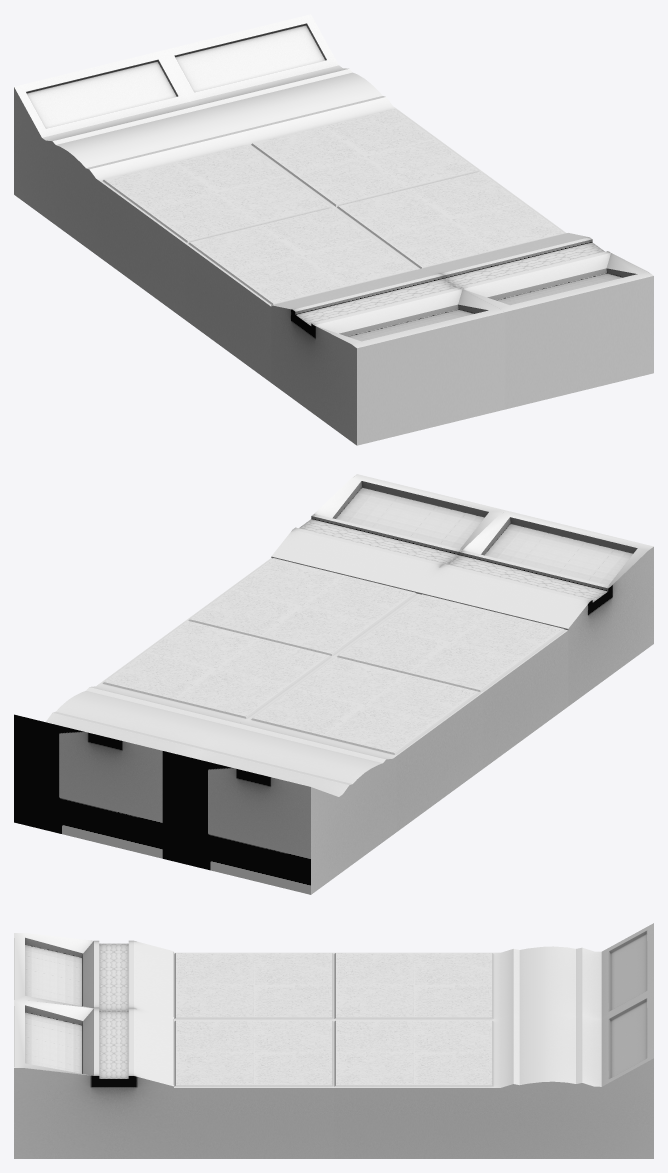
File: WallSolid_2_2.fbx
3 renders of one model, top to bottom at view 1: azimuth 30°, elevation 25°; view 2: azimuth 150°, elevation 25°; view 3: azimuth 270°, elevation 25°, orthographic. The views are drawn at different scales.
Parts seen in each view (by area): view 1: Wall_solid_2_2; view 2: Wall_solid_2_2; view 3: Wall_solid_2_2.
Boxes of the visible parts, x1,y1,x2,y2 form: Wall_solid_2_2: (14, 14, 653, 445); Wall_solid_2_2: (14, 474, 653, 894); Wall_solid_2_2: (14, 923, 653, 1158).
Bounding box in the file's own units: 2 × 0.6947 × 4.
